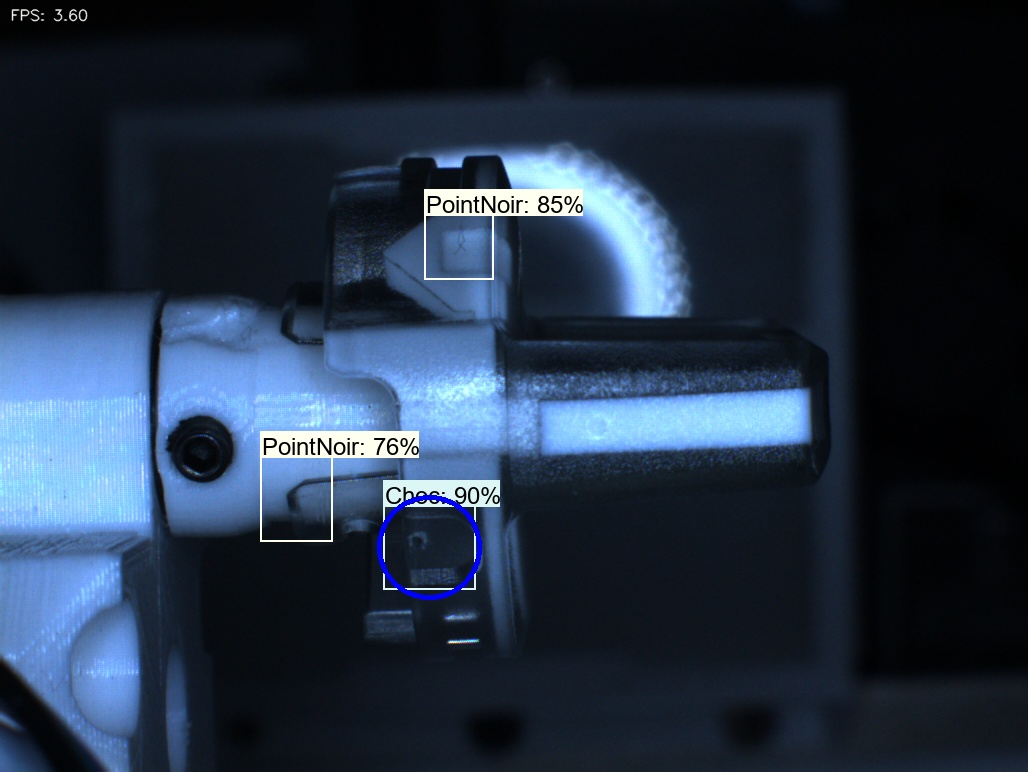DentOk: (356, 215, 438, 312)
